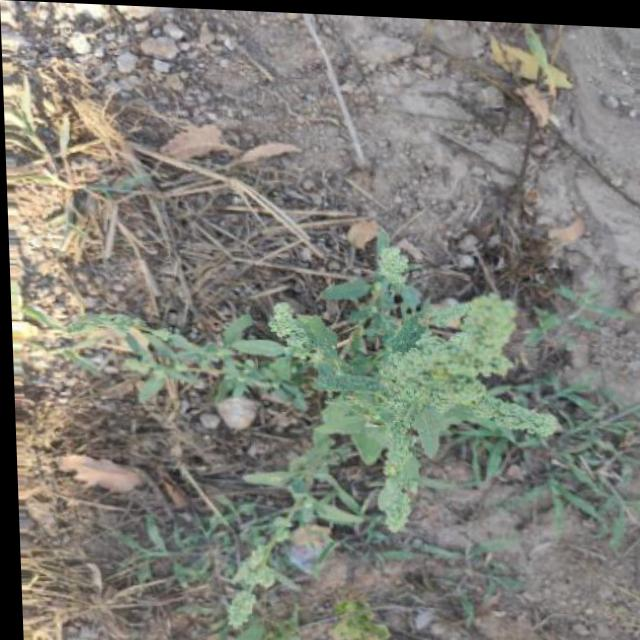weed: (190, 273, 554, 536)
